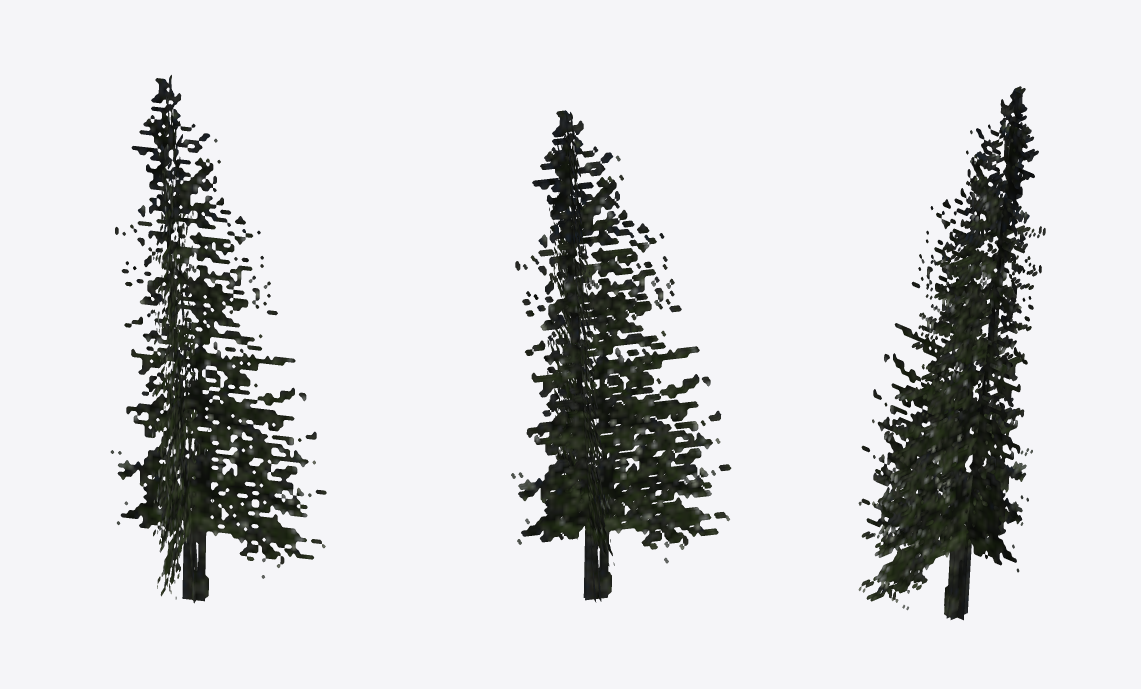
Rendered from tree057.fbx.
The picture shows the model from 3 angles, left to right: view 1: azimuth 30°, elevation 25°; view 2: azimuth 150°, elevation 25°; view 3: azimuth 270°, elevation 25°; orthographic projection. The views are drawn at different scales.
Visible parts, largest first — view 1: tree057; view 2: tree057; view 3: tree057.
Part boxes in pixels (box(x1,y1,x2,y2)): tree057: box(110, 75, 326, 603); tree057: box(511, 110, 731, 602); tree057: box(858, 86, 1045, 620).
Bounding box in the file's own units: 285 × 501 × 260.
Materials: 1 (1 with a texture image).
